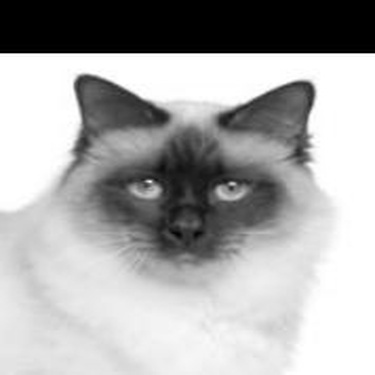cat: (7, 72, 331, 298)
